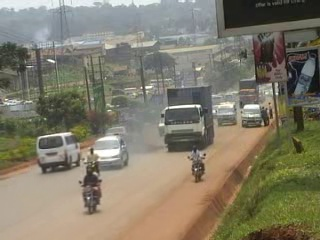Car: (86, 135, 131, 172), (103, 124, 130, 144), (156, 114, 167, 136), (210, 100, 220, 118)
Motorcycle: (76, 165, 104, 218), (186, 144, 207, 186), (80, 145, 103, 178)
